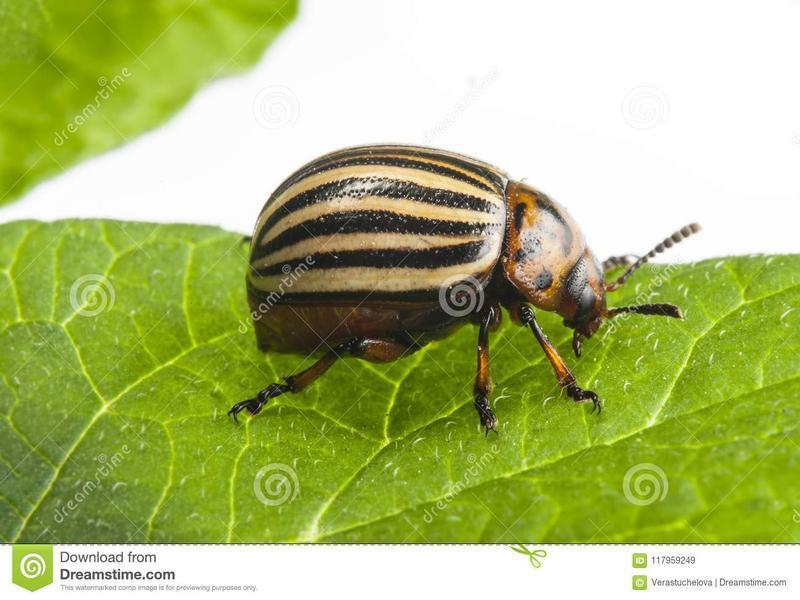hrosc: (247, 148, 661, 451)
